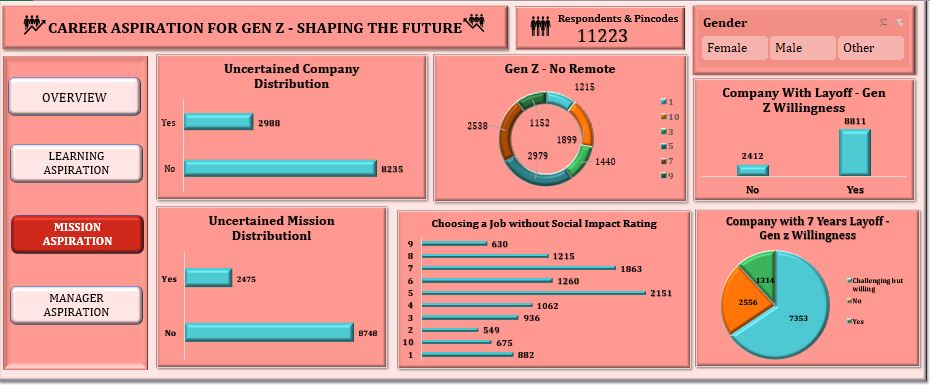

What the dashboard file says about the page in this screenshot:
{"tool":"powerbi","page":{"name":"Mission Aspiration","canvas":[1280,720],"ordinal":1},"visuals":[{"type":"shape","box":[19.8,69.4,171.5,646.3],"z":0},{"type":"shape","box":[807.9,7.1,228.2,56.7],"z":1000},{"type":"shape","box":[5.7,7.1,661.9,56.7],"z":2000},{"type":"shape","box":[1051.8,7.1,228.2,56.7],"z":3000},{"type":"slicer","fields":{"Values":["Table1_2.Gender"]},"box":[32.6,92.1,143.1,144.6],"z":4000},{"type":"slicer","fields":{"Values":["Table1_2.Country"]},"box":[32.6,252.3,143.1,276.4],"z":5000},{"type":"slicer","fields":{"Values":["Table1_2.Workplace"]},"box":[32.6,547.1,143.1,144.6],"z":6000},{"type":"card","title":"Total Respondents","fields":{"Values":["CountNonNull(Table1_2.Email)"]},"box":[201.3,69.4,174.3,83.6],"z":7000},{"type":"card","title":"Total Pincodes","fields":{"Values":["CountNonNull(Table1_2.Email)"]},"box":[392.6,69.4,174.3,83.6],"z":8000},{"type":"barChart","title":"Uncertainity Company Preference Among Gen Z","fields":{"Category":["Table1_2.Uncertained Company"],"Series":["Table1_2.Uncertained Company"],"Y":["CountNonNull(Table1_2.Uncertained Missions)"]},"box":[201.3,163,365.7,182.8],"z":9000},{"type":"columnChart","title":"Mission Uncertainity Among Gen Z","fields":{"Category":["Table1_2.Uncertained Missions"],"Series":["Table1_2.Uncertained Missions"],"Y":["CountNonNull(Table1_2.Uncertained Missions)"]},"box":[581.1,63.8,270.7,282],"z":10000},{"type":"donutChart","title":"Gen Z Willngness To Work In Company With Layoff","fields":{"Category":["Table1_2.Willingness to Work for Company with Layoffs"],"Y":["CountNonNull(Table1_2.Willingness to Work for Company with Layoffs)"]},"box":[581.1,364.3,296.2,351.5],"z":11000},{"type":"ribbonChart","title":"Social Impact Rating Of Company","fields":{"Category":["Table1_2.Social Impact Rating"],"Y":["Sum(Table1_2.Social Impact Rating)"],"Series":["Table1_2.Social Impact Rating"]},"box":[201.3,360,365.7,355.7],"z":12000},{"type":"areaChart","title":"Reason Of Frustation By Gen Z","fields":{"Y":["CountNonNull(Table1_2.What would frustrate you at work ?)"],"Category":["Table1_2.What would frustrate you at work ?"]},"box":[888.7,364.3,381.3,351.5],"z":13000},{"type":"areaChart","title":"Preferred Working Hours","fields":{"Category":["Table1_2.Working Hours"],"Y":["Sum(Table1_2.Working Hours)"]},"box":[861.7,63.8,408.2,282],"z":14000}]}

Visuals, with their boxes on the page's 1280x720 design canvas (x1, y1, x2, y2). These are canvas units, not pixel positions in the 930x385 screenshot, which may show the page scaled, cropped or inside an application window:
shape: x1=20 y1=69 x2=191 y2=716
shape: x1=808 y1=7 x2=1036 y2=64
shape: x1=6 y1=7 x2=668 y2=64
shape: x1=1052 y1=7 x2=1280 y2=64
slicer - Table1_2.Gender: x1=33 y1=92 x2=176 y2=237
slicer - Table1_2.Country: x1=33 y1=252 x2=176 y2=529
slicer - Table1_2.Workplace: x1=33 y1=547 x2=176 y2=692
"Total Respondents" card: x1=201 y1=69 x2=376 y2=153
"Total Pincodes" card: x1=393 y1=69 x2=567 y2=153
"Uncertainity Company Preference Among Gen Z" barChart: x1=201 y1=163 x2=567 y2=346
"Mission Uncertainity Among Gen Z" columnChart: x1=581 y1=64 x2=852 y2=346
"Gen Z Willngness To Work In Company With Layoff" donutChart: x1=581 y1=364 x2=877 y2=716
"Social Impact Rating Of Company" ribbonChart: x1=201 y1=360 x2=567 y2=716
"Reason Of Frustation By Gen Z" areaChart: x1=889 y1=364 x2=1270 y2=716
"Preferred Working Hours" areaChart: x1=862 y1=64 x2=1270 y2=346
